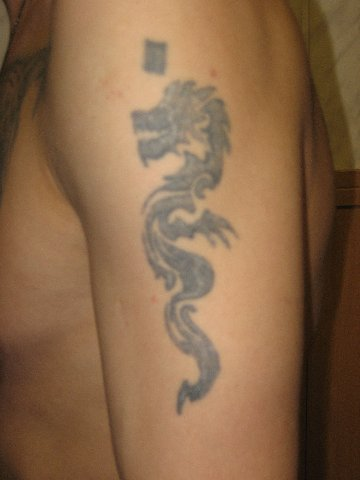tatu6_drakon: (107, 26, 272, 433)
